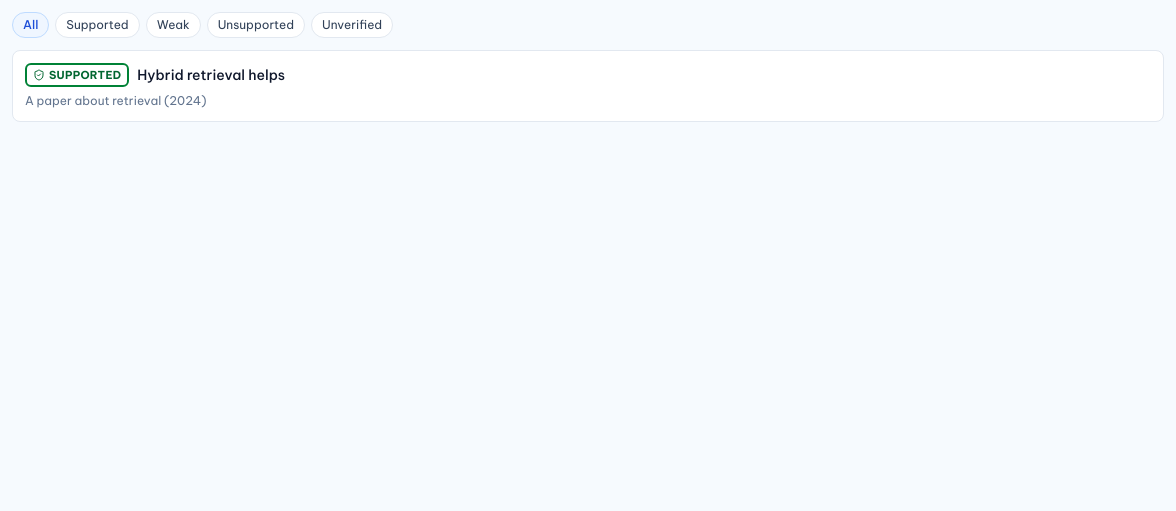
the why-this-label page › shows the full-text passages and marks the one holding the quote
Click the button "Hybrid retrieval helps" at (77, 75), box [13,51,1163,121]
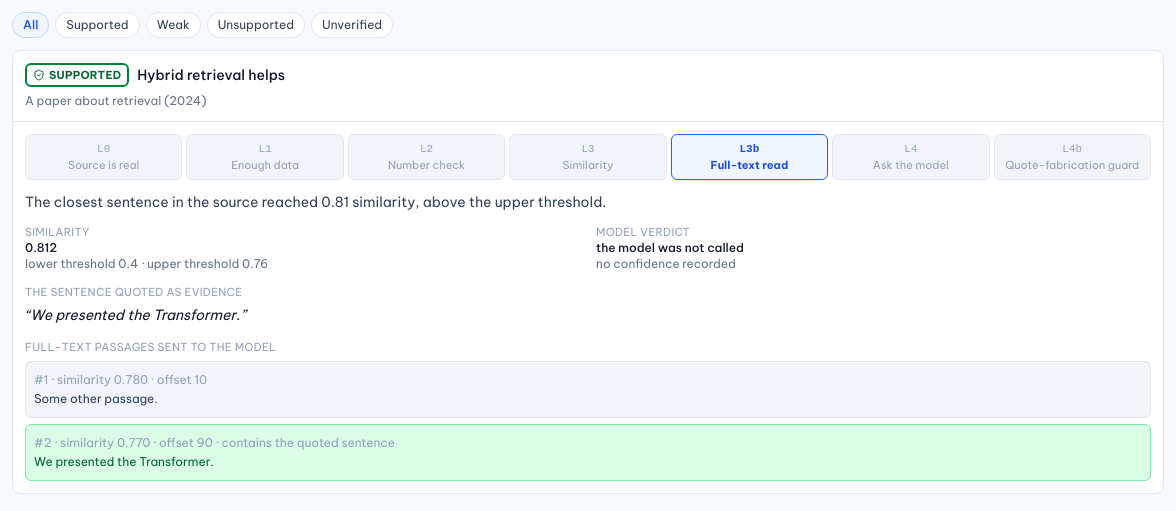
Expected: the text "contains the quoted sentence" is shown, [213,435,395,450]
